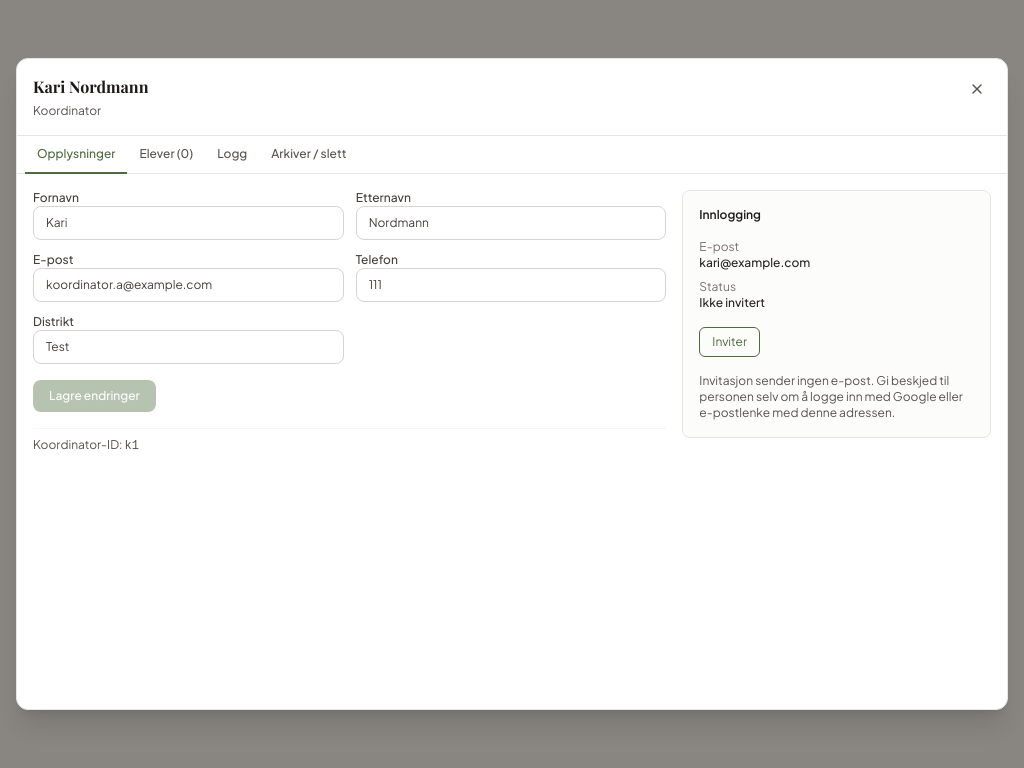
Scenario: personkort: arkivering › bruker Arkiver-tekster og ingen Avslutt-tekster
What coordinates should you click on to do the following:
click the tab "Arkiver / slett"
I would click on:
 (309, 155)
Its box is [259, 136, 358, 174].
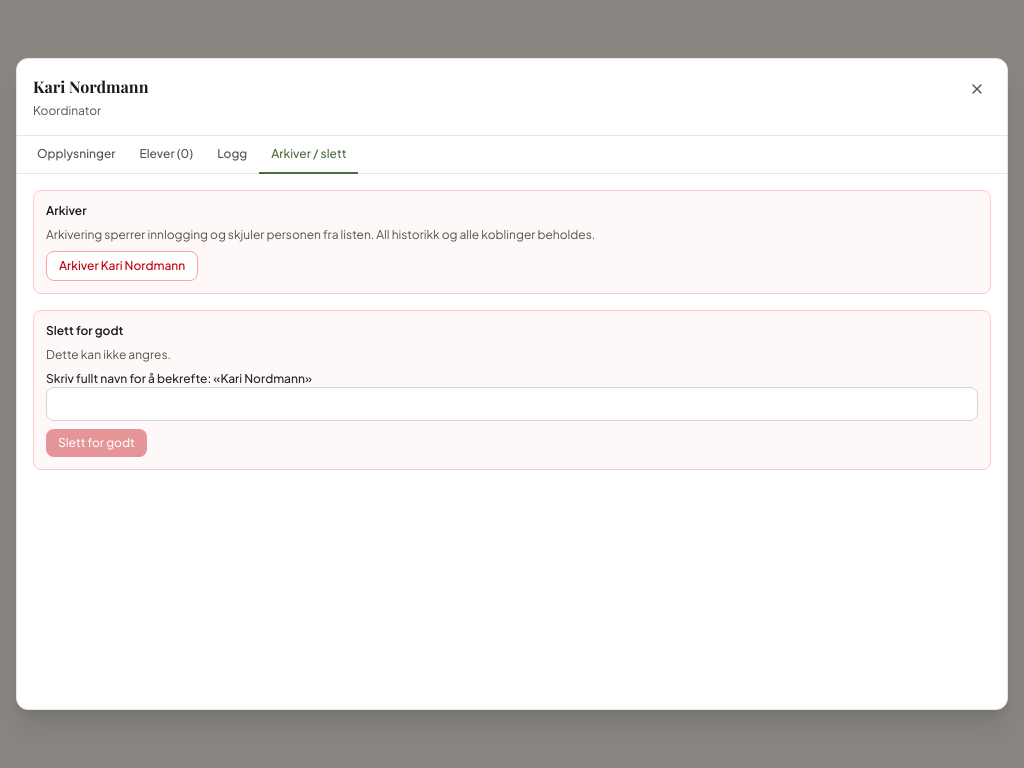
Check: the button "Arkiver Kari Nordmann" is shown, box [46, 251, 198, 281]
